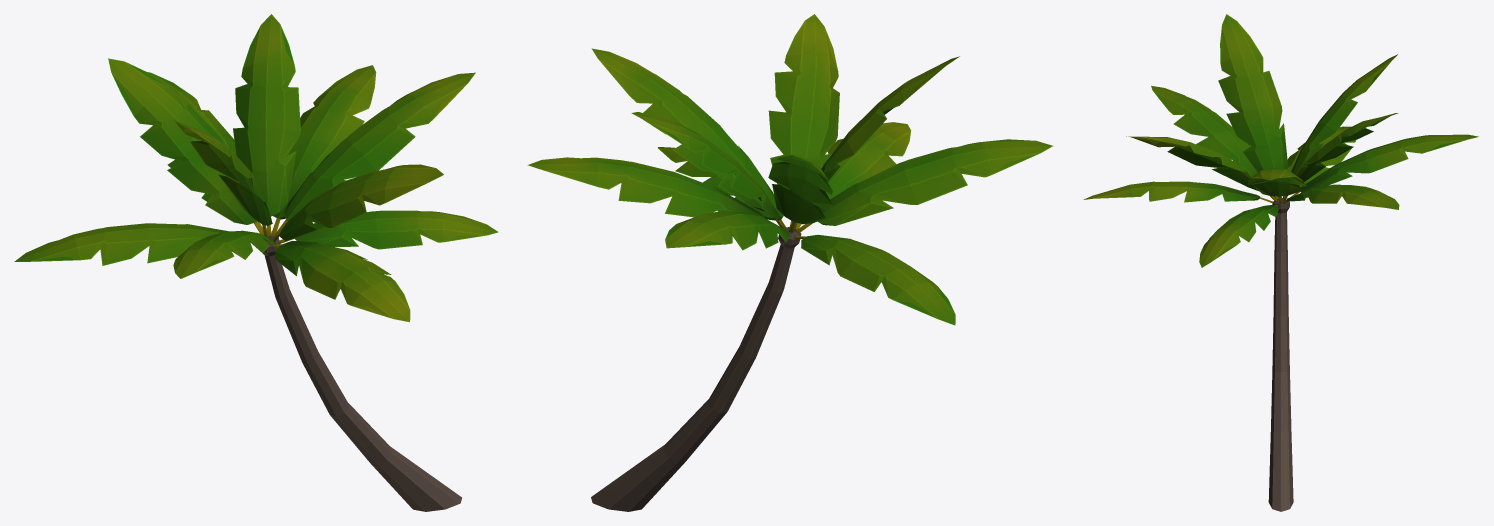
The model's file is palm-tree.obj.
3 views of the same model, side by side, from view 1: azimuth 30°, elevation 25°; view 2: azimuth 150°, elevation 25°; view 3: azimuth 270°, elevation 25° (orthographic). The views are drawn at different scales.
Size of the model in its own units: 15.28 by 17.24 by 16.55.
Materials: 1 (1 with a texture image).
